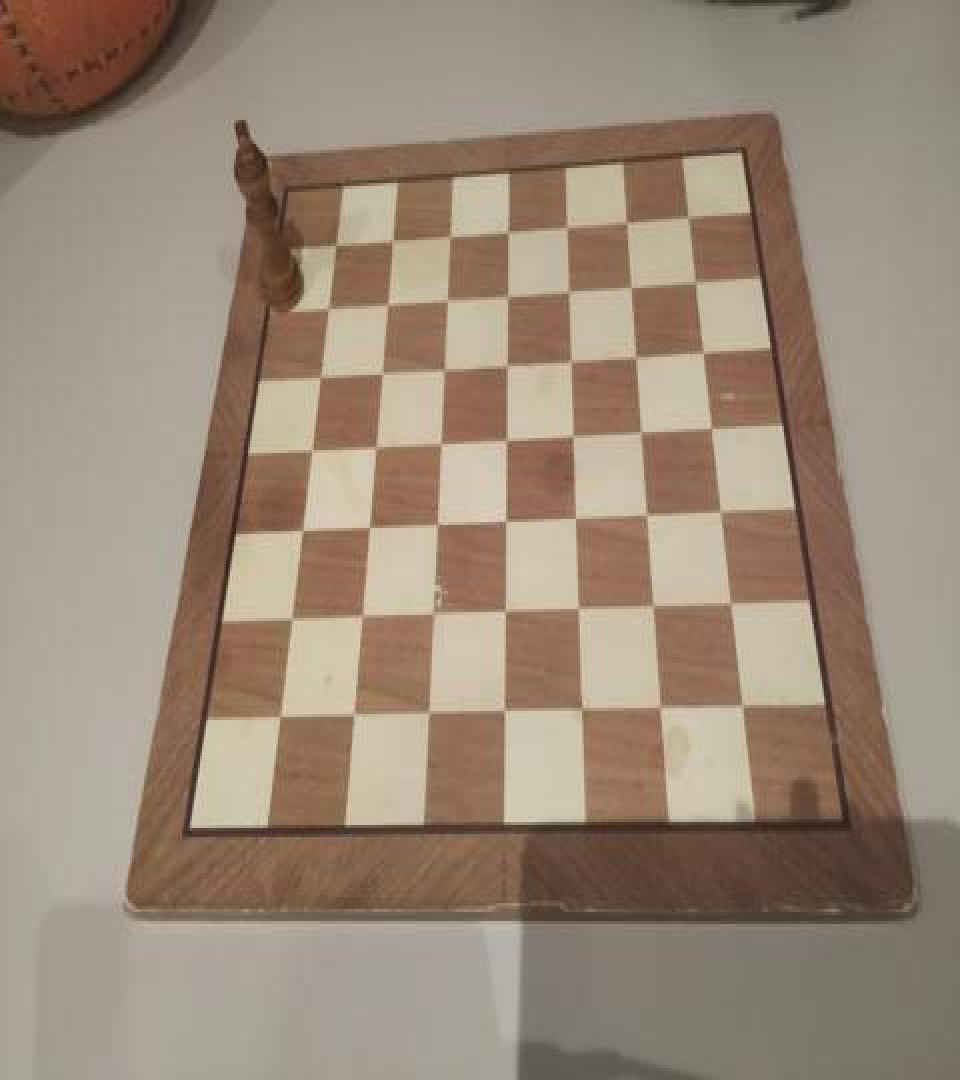xcorner: (316, 295, 336, 326), (497, 280, 517, 311), (679, 199, 699, 230), (270, 708, 290, 738), (344, 706, 364, 736), (419, 705, 439, 735), (573, 702, 593, 732), (653, 700, 673, 730), (734, 699, 754, 729), (423, 604, 443, 634), (496, 603, 516, 633), (570, 600, 590, 630), (646, 597, 666, 627), (723, 594, 743, 624), (291, 520, 311, 550), (358, 518, 378, 548), (426, 514, 446, 544), (496, 512, 516, 542), (567, 507, 587, 537), (639, 504, 659, 534), (713, 501, 733, 531), (300, 440, 320, 470), (365, 435, 385, 465), (430, 432, 450, 462), (496, 428, 516, 458), (564, 423, 584, 453), (633, 420, 653, 450), (703, 416, 723, 446), (309, 364, 329, 394), (370, 360, 390, 390), (433, 356, 453, 386), (497, 351, 517, 381), (562, 346, 582, 376), (627, 342, 647, 372), (695, 338, 715, 368), (376, 290, 396, 320), (436, 285, 456, 315), (559, 276, 579, 306), (622, 272, 642, 302), (687, 266, 707, 296), (324, 231, 344, 261), (381, 226, 401, 256), (438, 220, 458, 250), (497, 216, 517, 246), (557, 212, 577, 242), (618, 206, 638, 236), (495, 704, 515, 733), (281, 611, 301, 640), (351, 608, 371, 637)
